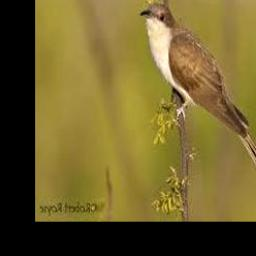Cuckoo: (140, 3, 256, 196)
